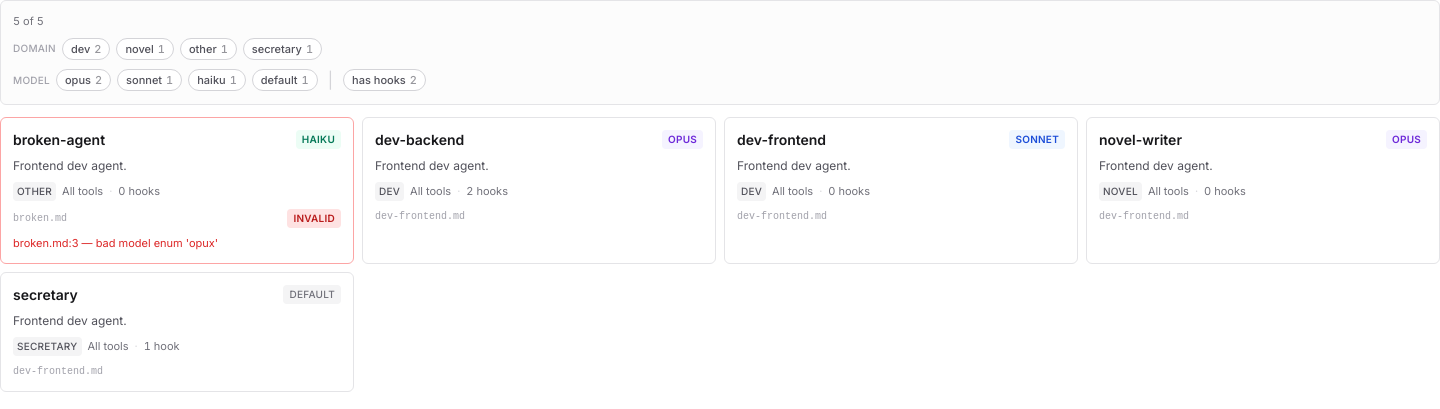
Test case: AgentGallery — filters › domain chip narrows the grid to that domain
Click the button "dev 2": (86, 49) [62,38,110,60]
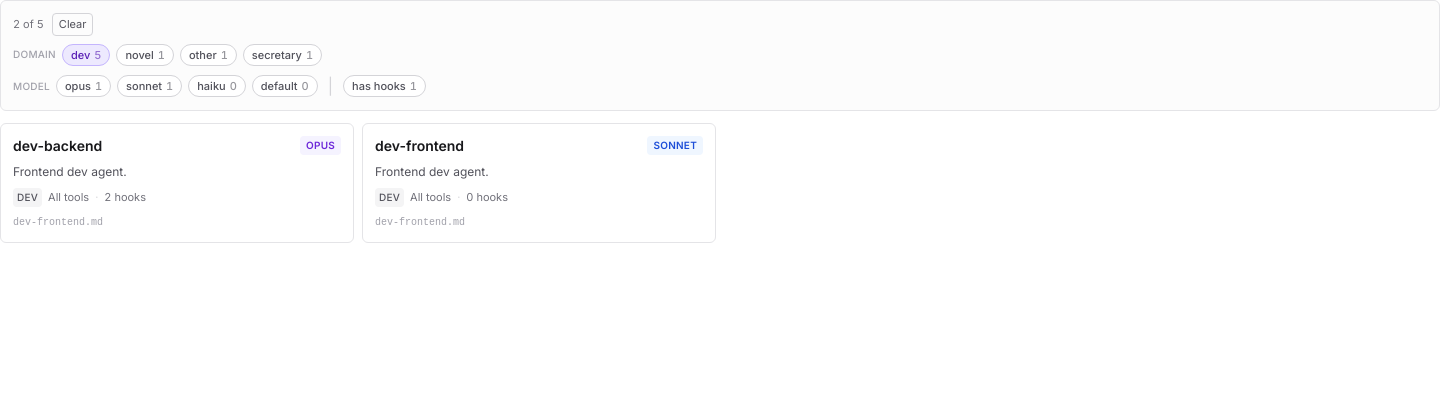
Result: the text "2 of 5" is shown at [13,16,44,32]
